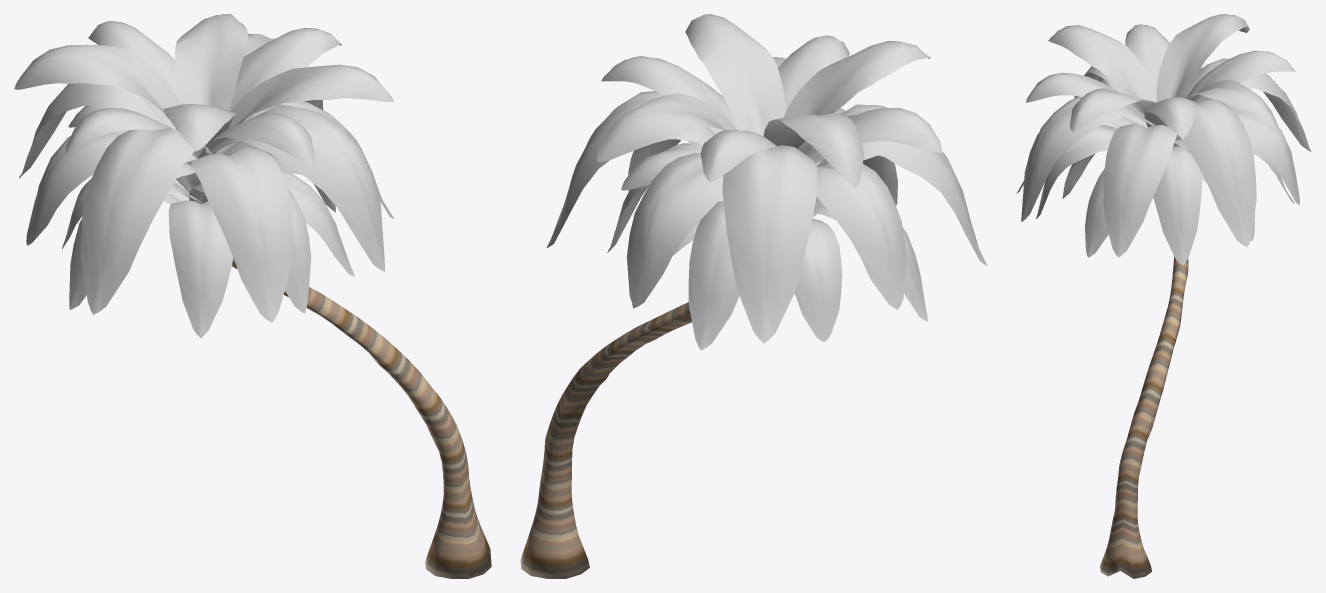
The model's file is PalmTree4.fbx.
The picture shows the model from 3 angles, left to right: view 1: azimuth 30°, elevation 25°; view 2: azimuth 150°, elevation 25°; view 3: azimuth 270°, elevation 25°; orthographic projection. The views are drawn at different scales.
Parts seen in each view (by area): view 1: Cylinder.010; view 2: Cylinder.010; view 3: Cylinder.010.
Part boxes in pixels (x1,y1,x2,y2): Cylinder.010: [14, 14, 491, 578]; Cylinder.010: [520, 14, 987, 578]; Cylinder.010: [1016, 14, 1311, 578].
Bounding box in the file's own units: 1401 × 1756 × 1095.
